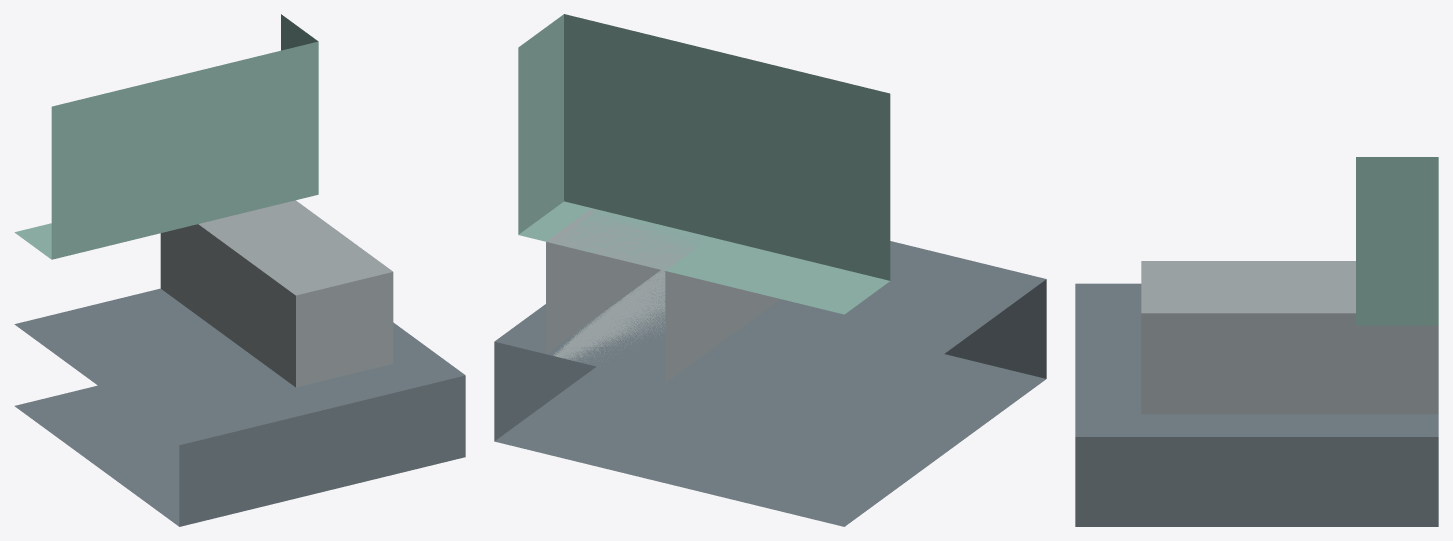
File: cell_44.obj
3 views of the same model, side by side, from view 1: azimuth 30°, elevation 25°; view 2: azimuth 150°, elevation 25°; view 3: azimuth 270°, elevation 25° (orthographic). The views are drawn at different scales.
Size of the model in its own units: 0.88 by 0.96 by 0.88.
